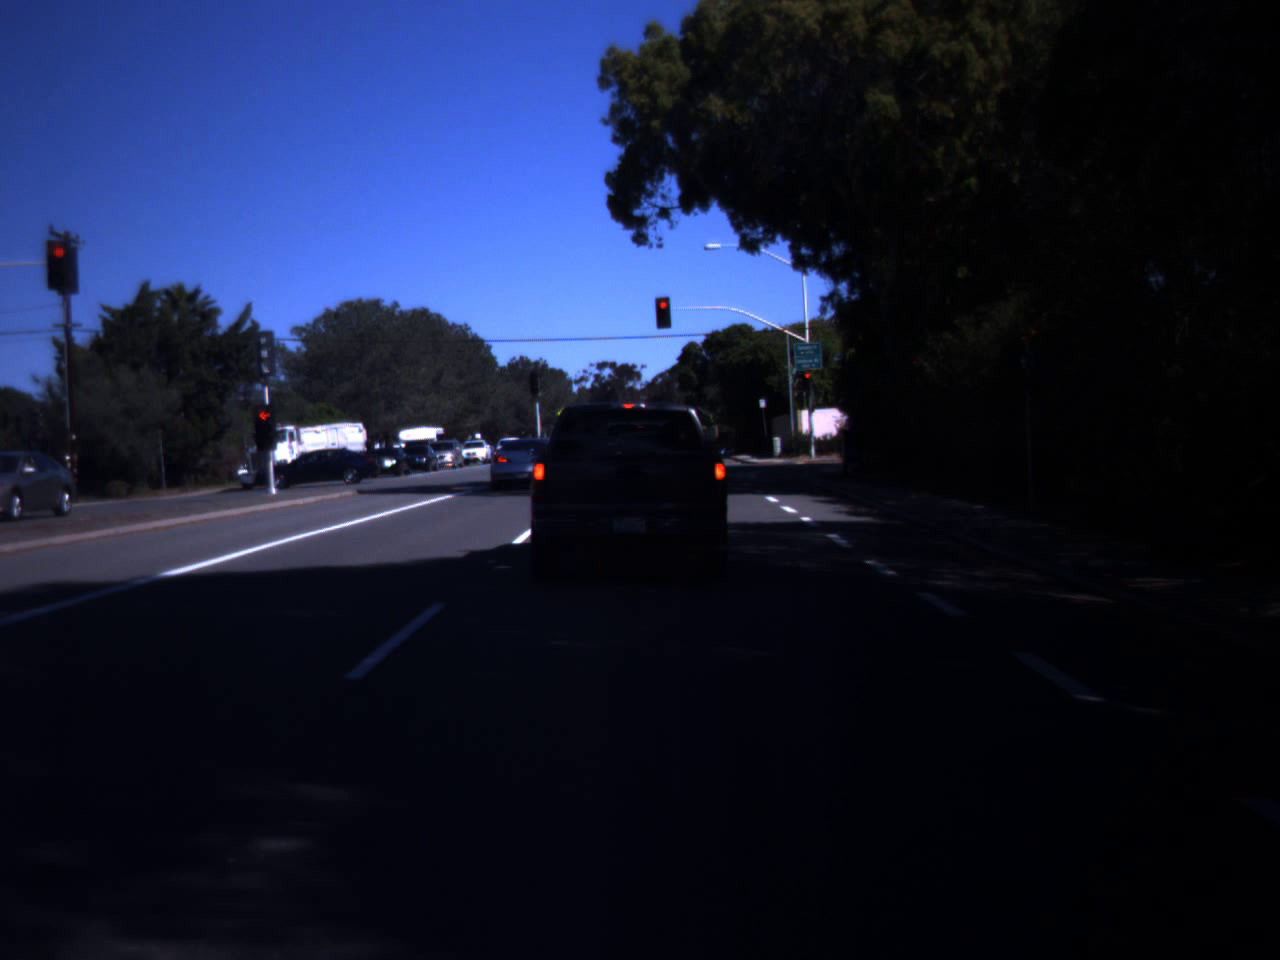stop: (44, 244, 74, 280), (253, 408, 274, 439), (656, 301, 671, 322), (802, 372, 814, 390)
